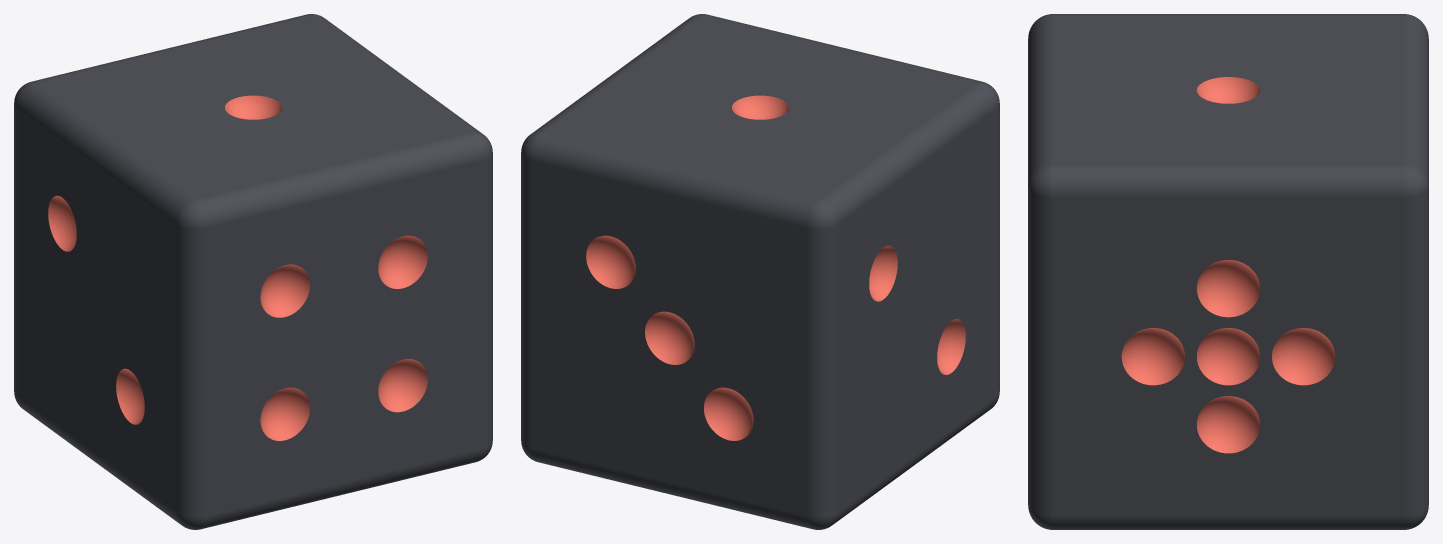
File: cad-d6-cadquery.glb
3 views of the same model, side by side, from view 1: azimuth 30°, elevation 25°; view 2: azimuth 150°, elevation 25°; view 3: azimuth 270°, elevation 25° (orthographic). The views are drawn at different scales.
Parts seen in each view (by area): view 1: cad-d6-cadquery; view 2: cad-d6-cadquery; view 3: cad-d6-cadquery.
Part boxes in pixels (bbox=[...]): cad-d6-cadquery: bbox=[14, 14, 492, 529]; cad-d6-cadquery: bbox=[521, 14, 999, 529]; cad-d6-cadquery: bbox=[1028, 14, 1428, 529].
Bounding box in the file's own units: 16 × 16 × 16.
